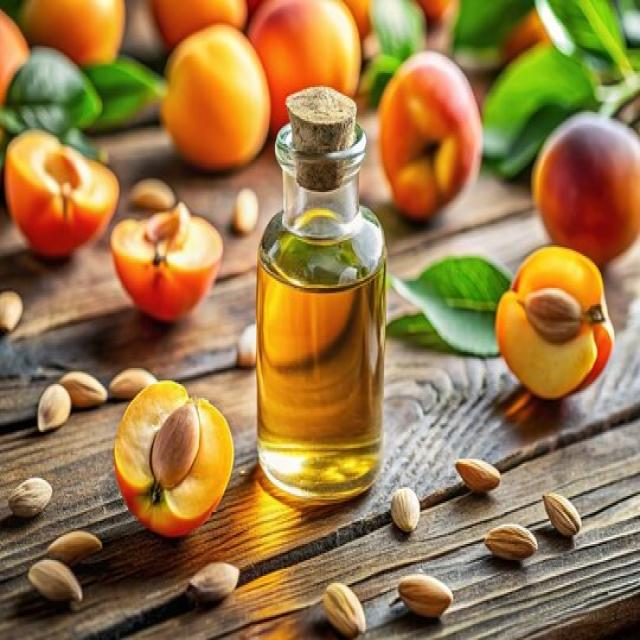cekirdek: (402, 586, 468, 637), (21, 560, 90, 608), (320, 585, 378, 640), (491, 525, 546, 579), (454, 449, 504, 508), (51, 526, 106, 576), (528, 297, 582, 347), (14, 477, 68, 525), (73, 362, 115, 423), (0, 276, 33, 347), (196, 572, 256, 608), (543, 497, 583, 548), (45, 384, 80, 438), (168, 404, 189, 492), (393, 486, 425, 541), (138, 180, 180, 216), (241, 189, 262, 258), (122, 365, 154, 401)
kayisi: (121, 375, 228, 535), (380, 57, 476, 213), (11, 122, 106, 277), (174, 24, 271, 174), (516, 258, 602, 394), (544, 128, 640, 244), (269, 0, 373, 105), (130, 214, 220, 300), (38, 0, 122, 51)
yaprak: (402, 246, 512, 372), (499, 43, 577, 165), (23, 61, 108, 125), (578, 0, 640, 87), (101, 61, 165, 139), (463, 0, 525, 64)
